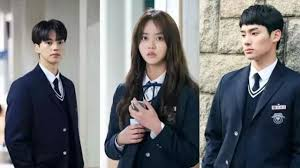people: (209, 6, 300, 168), (106, 12, 199, 168), (6, 25, 84, 168)
